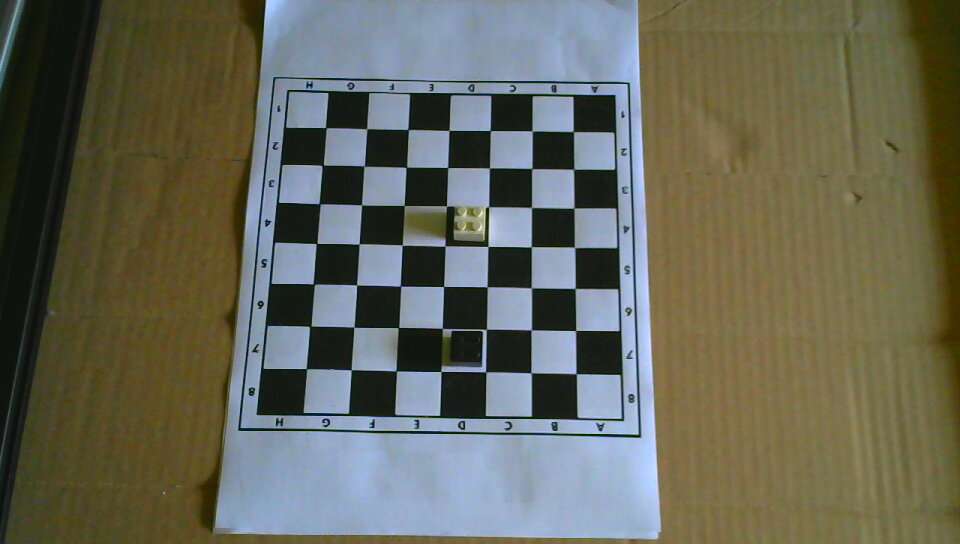bp: (447, 326, 486, 368)
wp: (451, 202, 488, 244)
